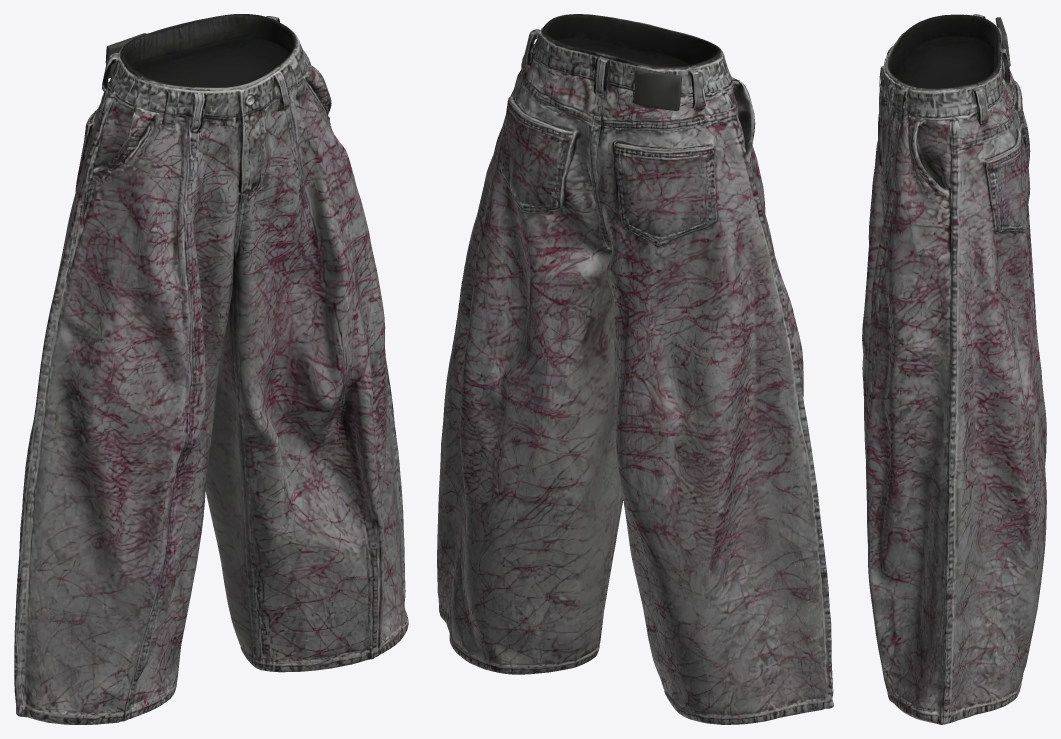
The model's file is jeans-scribble.glb.
3 renders of one model, left to right at view 1: azimuth 30°, elevation 25°; view 2: azimuth 150°, elevation 25°; view 3: azimuth 270°, elevation 25°, orthographic. The views are drawn at different scales.
Parts seen in each view (by area): view 1: tripo_node_2aea675e-4a2e-43e2-a5ce-7c37ba35f442; view 2: tripo_node_2aea675e-4a2e-43e2-a5ce-7c37ba35f442; view 3: tripo_node_2aea675e-4a2e-43e2-a5ce-7c37ba35f442.
Part boxes in pixels (x1,y1,x2,y2): tripo_node_2aea675e-4a2e-43e2-a5ce-7c37ba35f442: (14,14,408,724); tripo_node_2aea675e-4a2e-43e2-a5ce-7c37ba35f442: (437,14,833,724); tripo_node_2aea675e-4a2e-43e2-a5ce-7c37ba35f442: (862,14,1046,724).
Size of the model in its own units: 0.6781 by 1.05 by 0.2938.
Materials: 1 (1 with a texture image).
